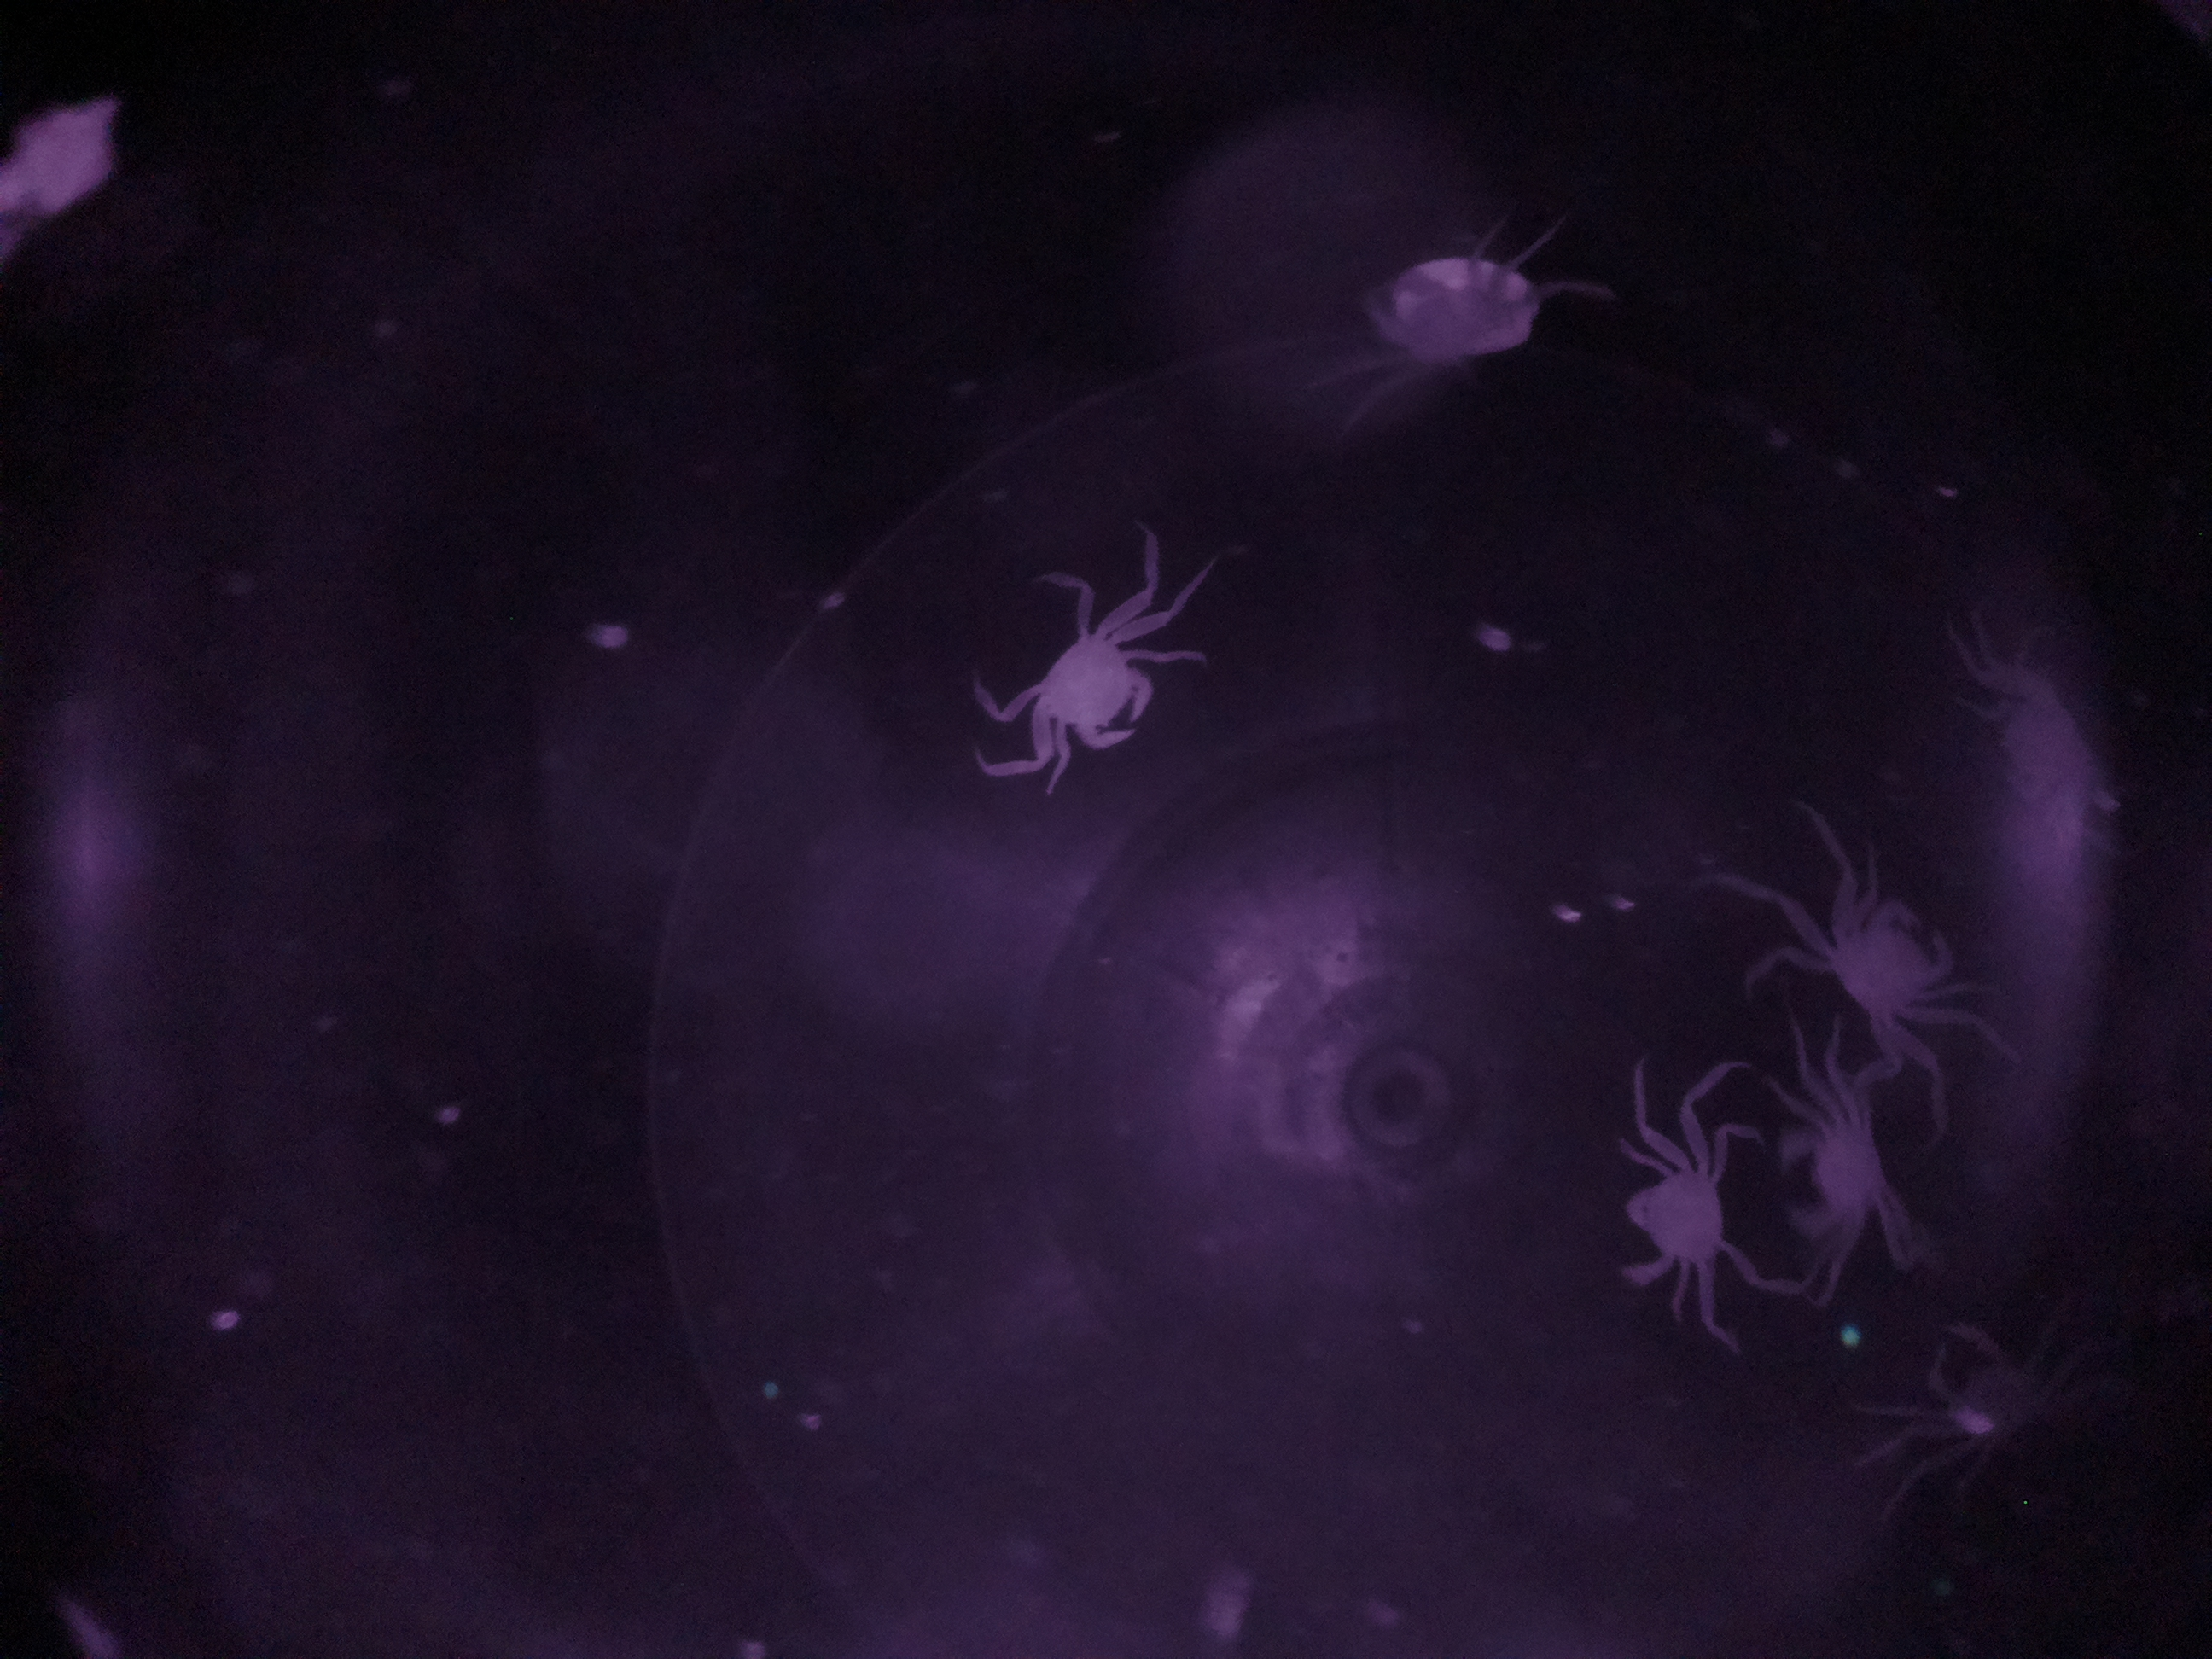Crab: (996, 580, 1183, 788), (1797, 852, 1966, 1061), (1608, 1089, 1750, 1328), (1761, 1066, 1907, 1251)
